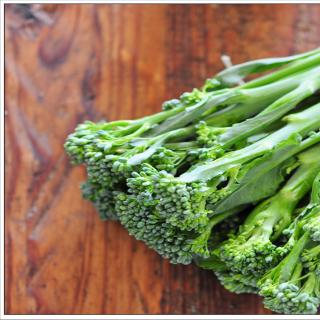Broccoli: (63, 45, 320, 312)
